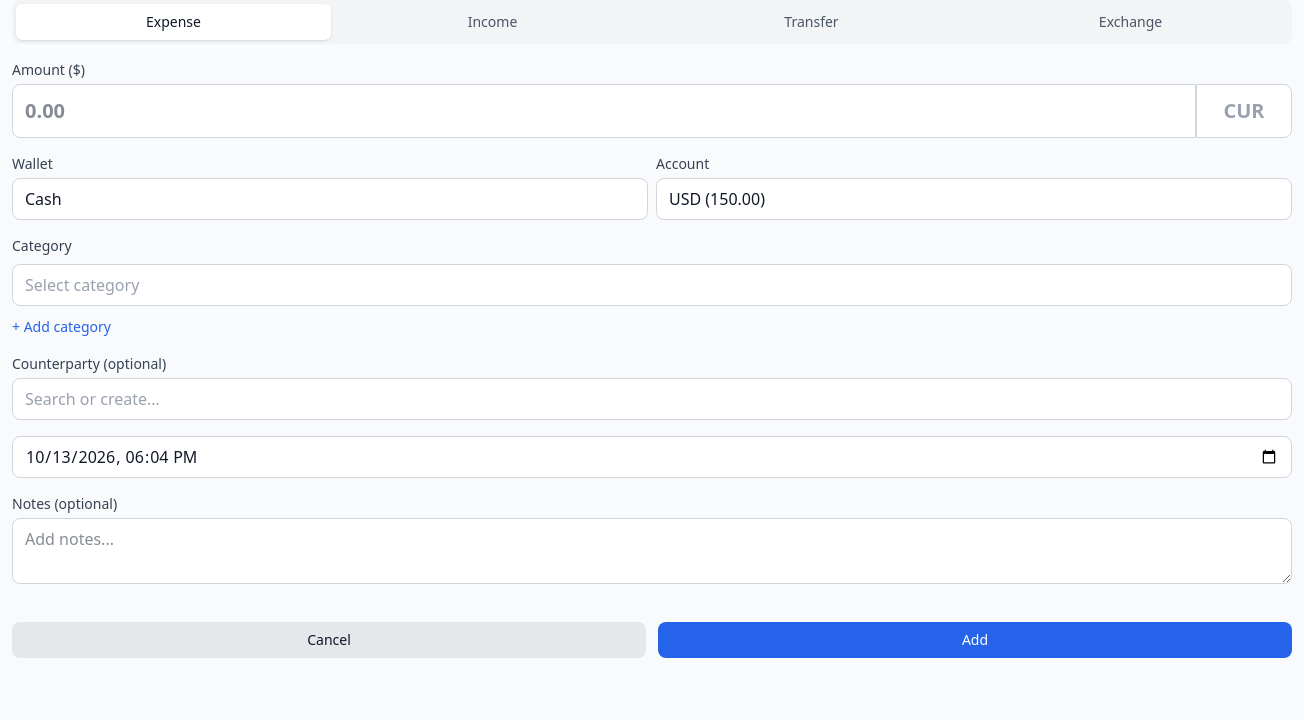
Test: TransactionForm › Exchange fields › shows exchange-specific fields for exchange type
Expected: the text "Account" is shown, [656,154,709,173]
Click the button "Exchange".
click(1130, 22)  # box [973,4,1288,40]
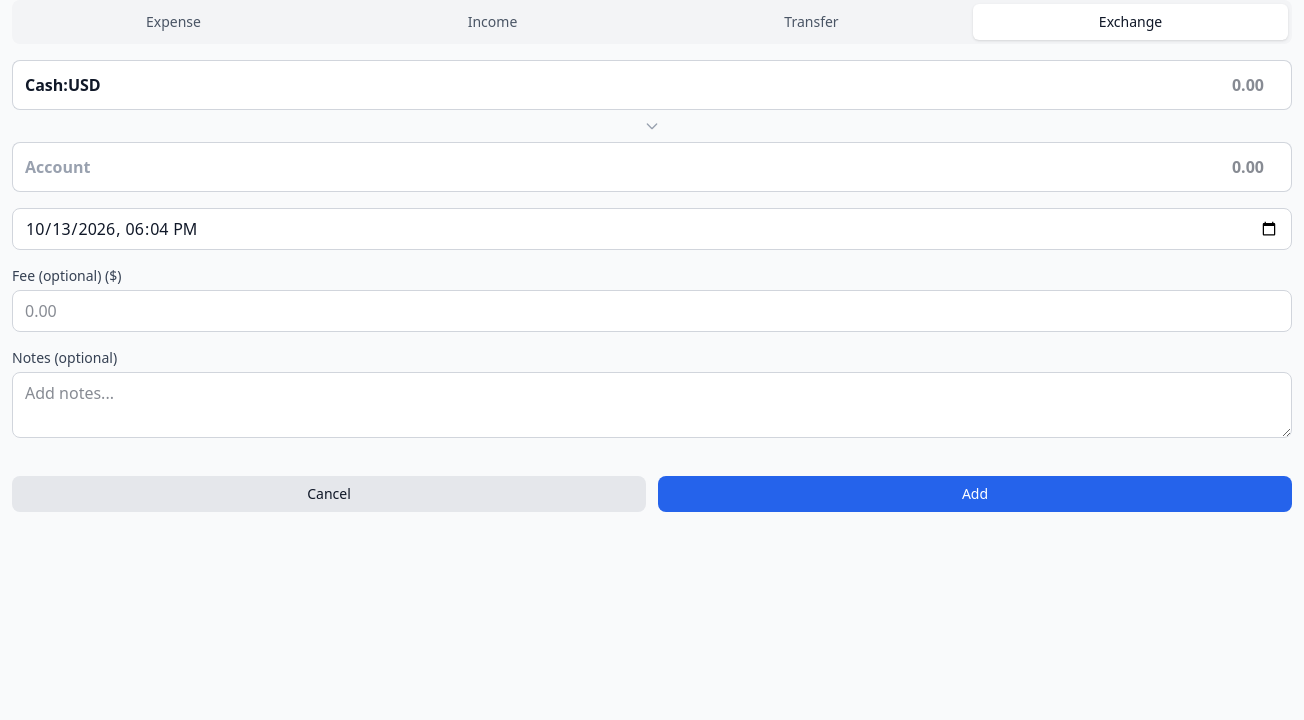
Expected: the number field with id "toAmount" is shown, [652,142,1292,192]
